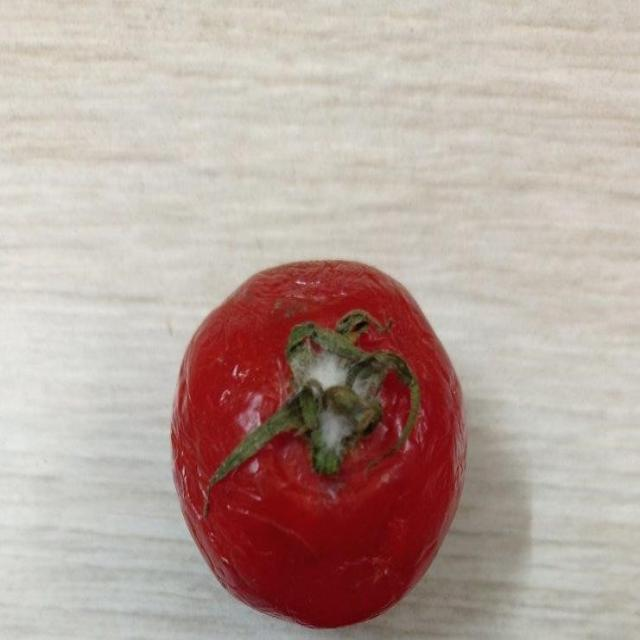overripe: (167, 250, 471, 631)
